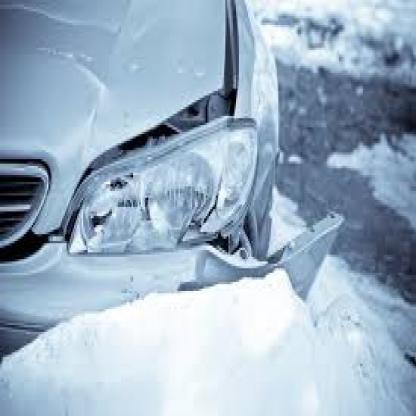accident: (11, 6, 366, 368)
